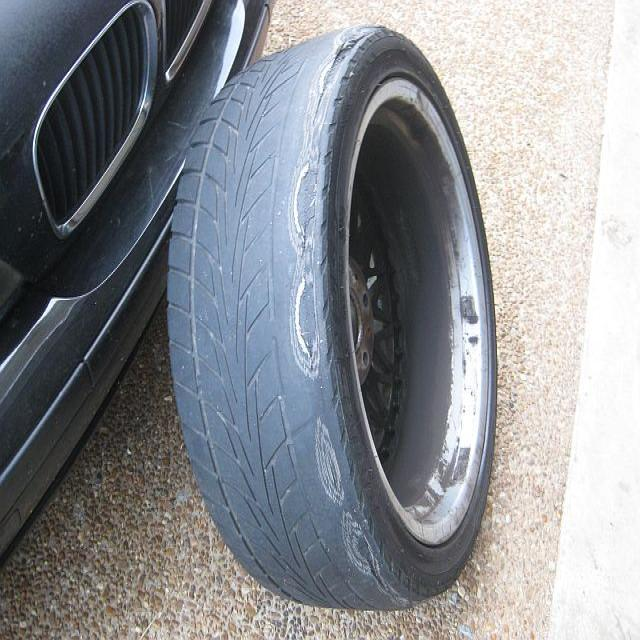Flat spots: (228, 79, 345, 587)
